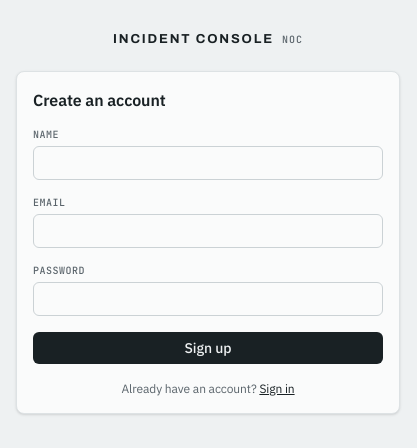
Test case: SignupPage › shows a 409 duplicate-email error from the server
The width and height of the screenshot is (417, 448).
In the field labelled "Name": (208, 162) x1=33 y1=146 x2=383 y2=180, type "Operator"
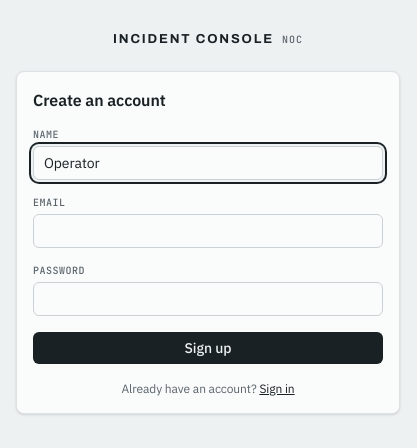
In the field labelled "Email": (208, 230) x1=33 y1=214 x2=383 y2=248, type "taken@example.com"
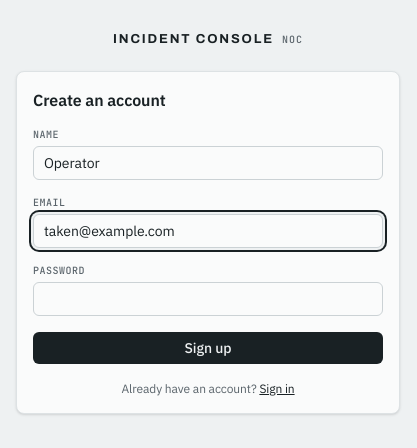
In the password field labelled "Password": (208, 298) x1=33 y1=282 x2=383 y2=316, type "correct-horse-battery"
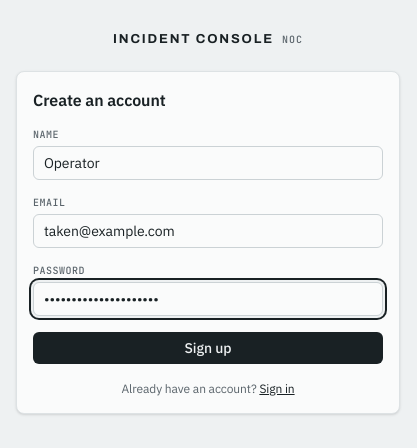
Click the button "Sign up": (208, 348) x1=33 y1=332 x2=383 y2=364
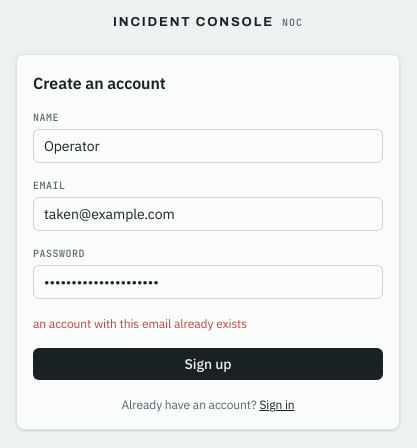
expect the message reads "an account with this email already exists": met, box x1=33 y1=316 x2=247 y2=331
